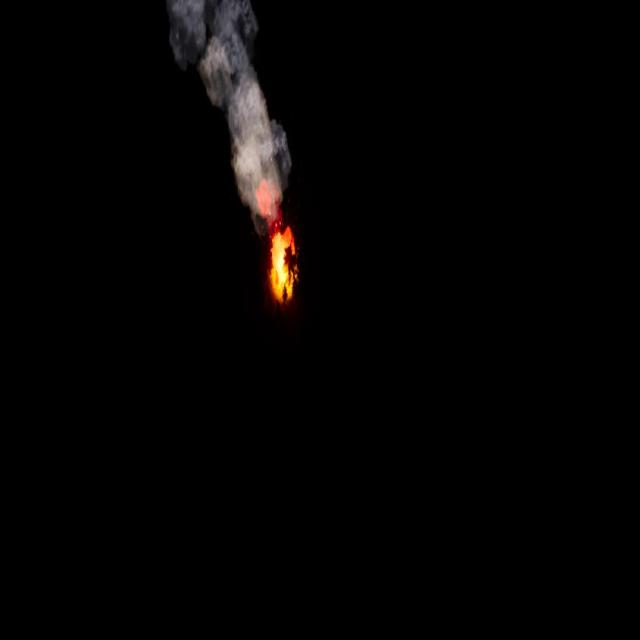fire: (258, 186, 298, 299)
smoke: (176, 0, 294, 210)
